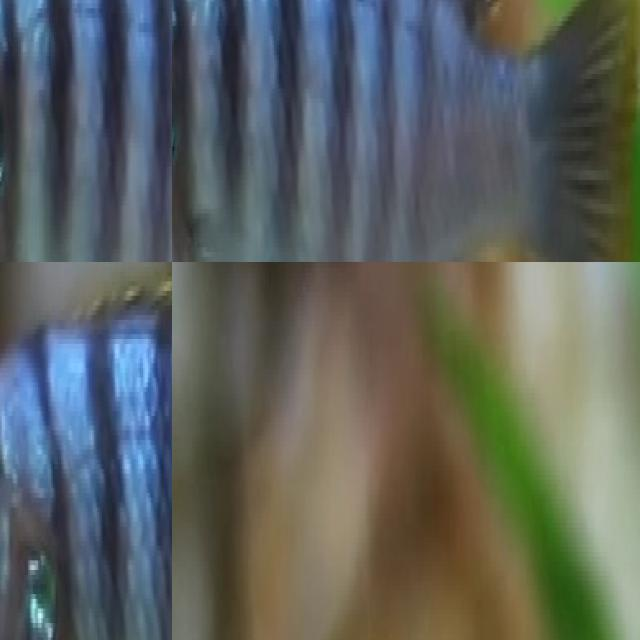fish: (172, 0, 640, 262), (0, 0, 172, 262)
